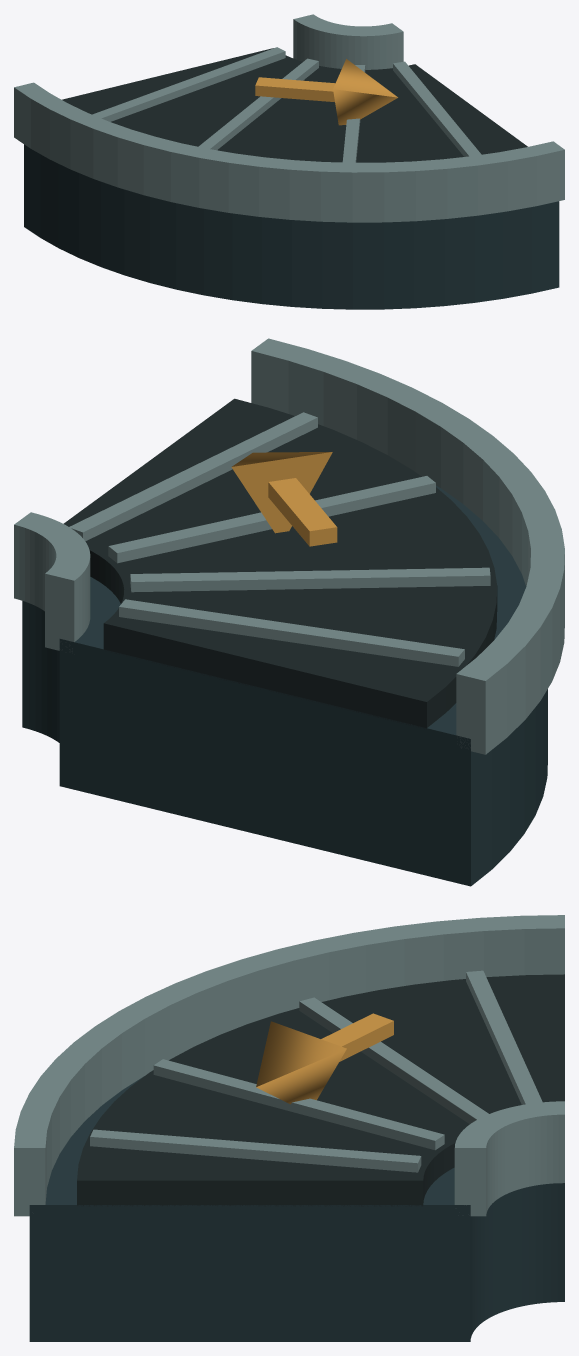
The model's file is belt-8.glb.
The picture shows the model from 3 angles, top to bottom: view 1: azimuth 30°, elevation 25°; view 2: azimuth 150°, elevation 25°; view 3: azimuth 270°, elevation 25°; orthographic projection. The views are drawn at different scales.
Visible parts, largest first — view 1: Batched static factory; view 2: Batched static factory; view 3: Batched static factory.
Boxes of the visible parts, x1,y1,x2,y2 form: Batched static factory: (14, 14, 564, 309); Batched static factory: (14, 338, 564, 886); Batched static factory: (14, 915, 564, 1341).
Bounding box in the file's own units: 0.875 × 0.4009 × 0.875.
